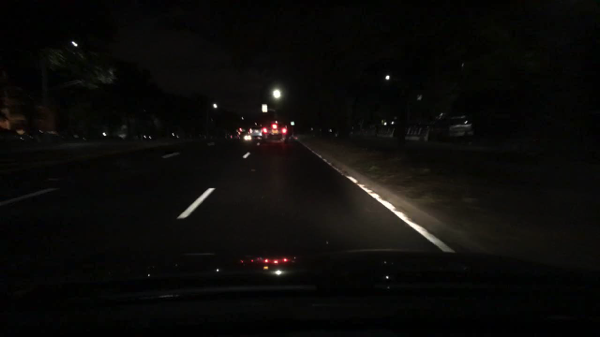car: (263, 120, 290, 144), (250, 127, 266, 141), (228, 128, 240, 140), (244, 133, 255, 143)
traffic sign: (262, 103, 267, 114)
